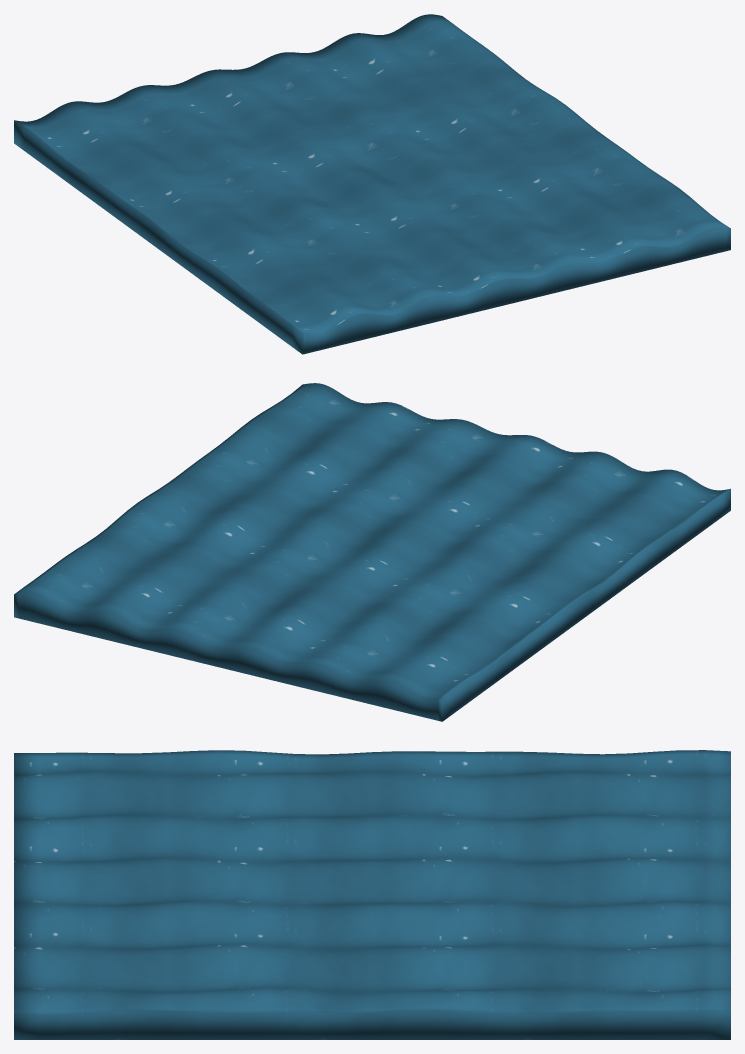
Rendered from prop_waves.fbx.
The picture shows the model from 3 angles, top to bottom: view 1: azimuth 30°, elevation 25°; view 2: azimuth 150°, elevation 25°; view 3: azimuth 270°, elevation 25°; orthographic projection. The views are drawn at different scales.
Visible parts, largest first — view 1: prop_waves; view 2: prop_waves; view 3: prop_waves.
Part boxes in pixels (x1,y1,x2,y2): prop_waves: [14, 14, 730, 354]; prop_waves: [14, 383, 730, 721]; prop_waves: [14, 750, 730, 1039].
Bounding box in the file's own units: 12 × 0.7576 × 14.
